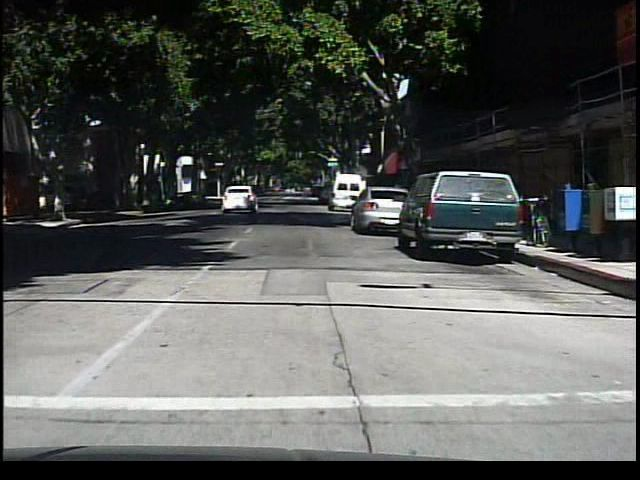person: (51, 178, 69, 221), (294, 178, 313, 206)
